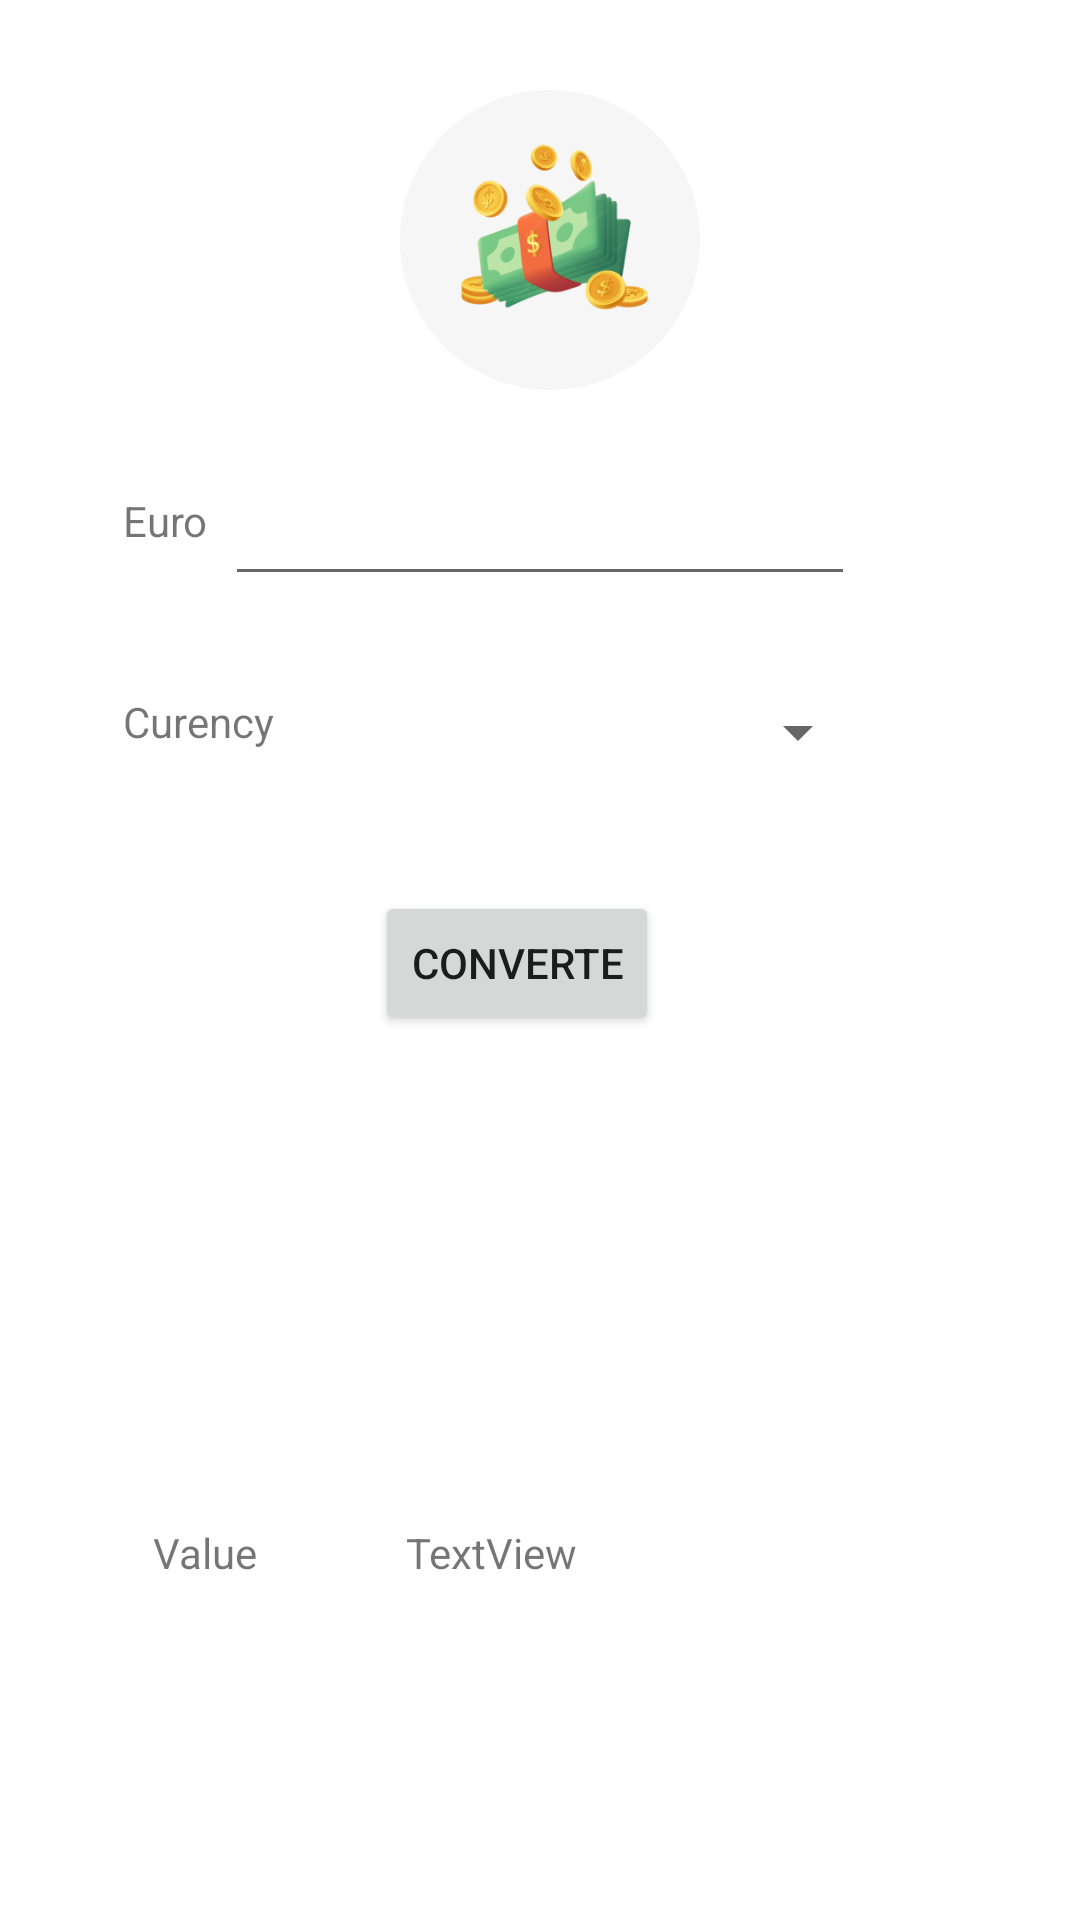

Icons on this 1080px×1920px Android screen, each with its box as (x1, y1, x2, y2):
money: (461, 144, 648, 310)
